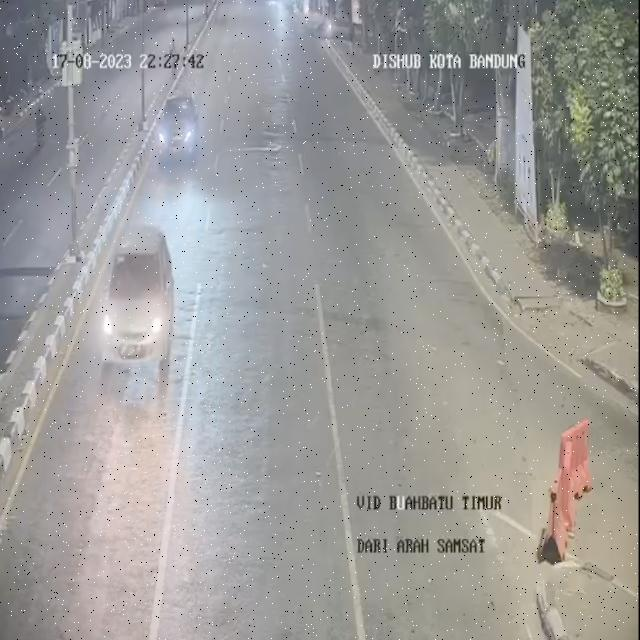cars: (101, 221, 181, 408), (161, 92, 199, 174)
